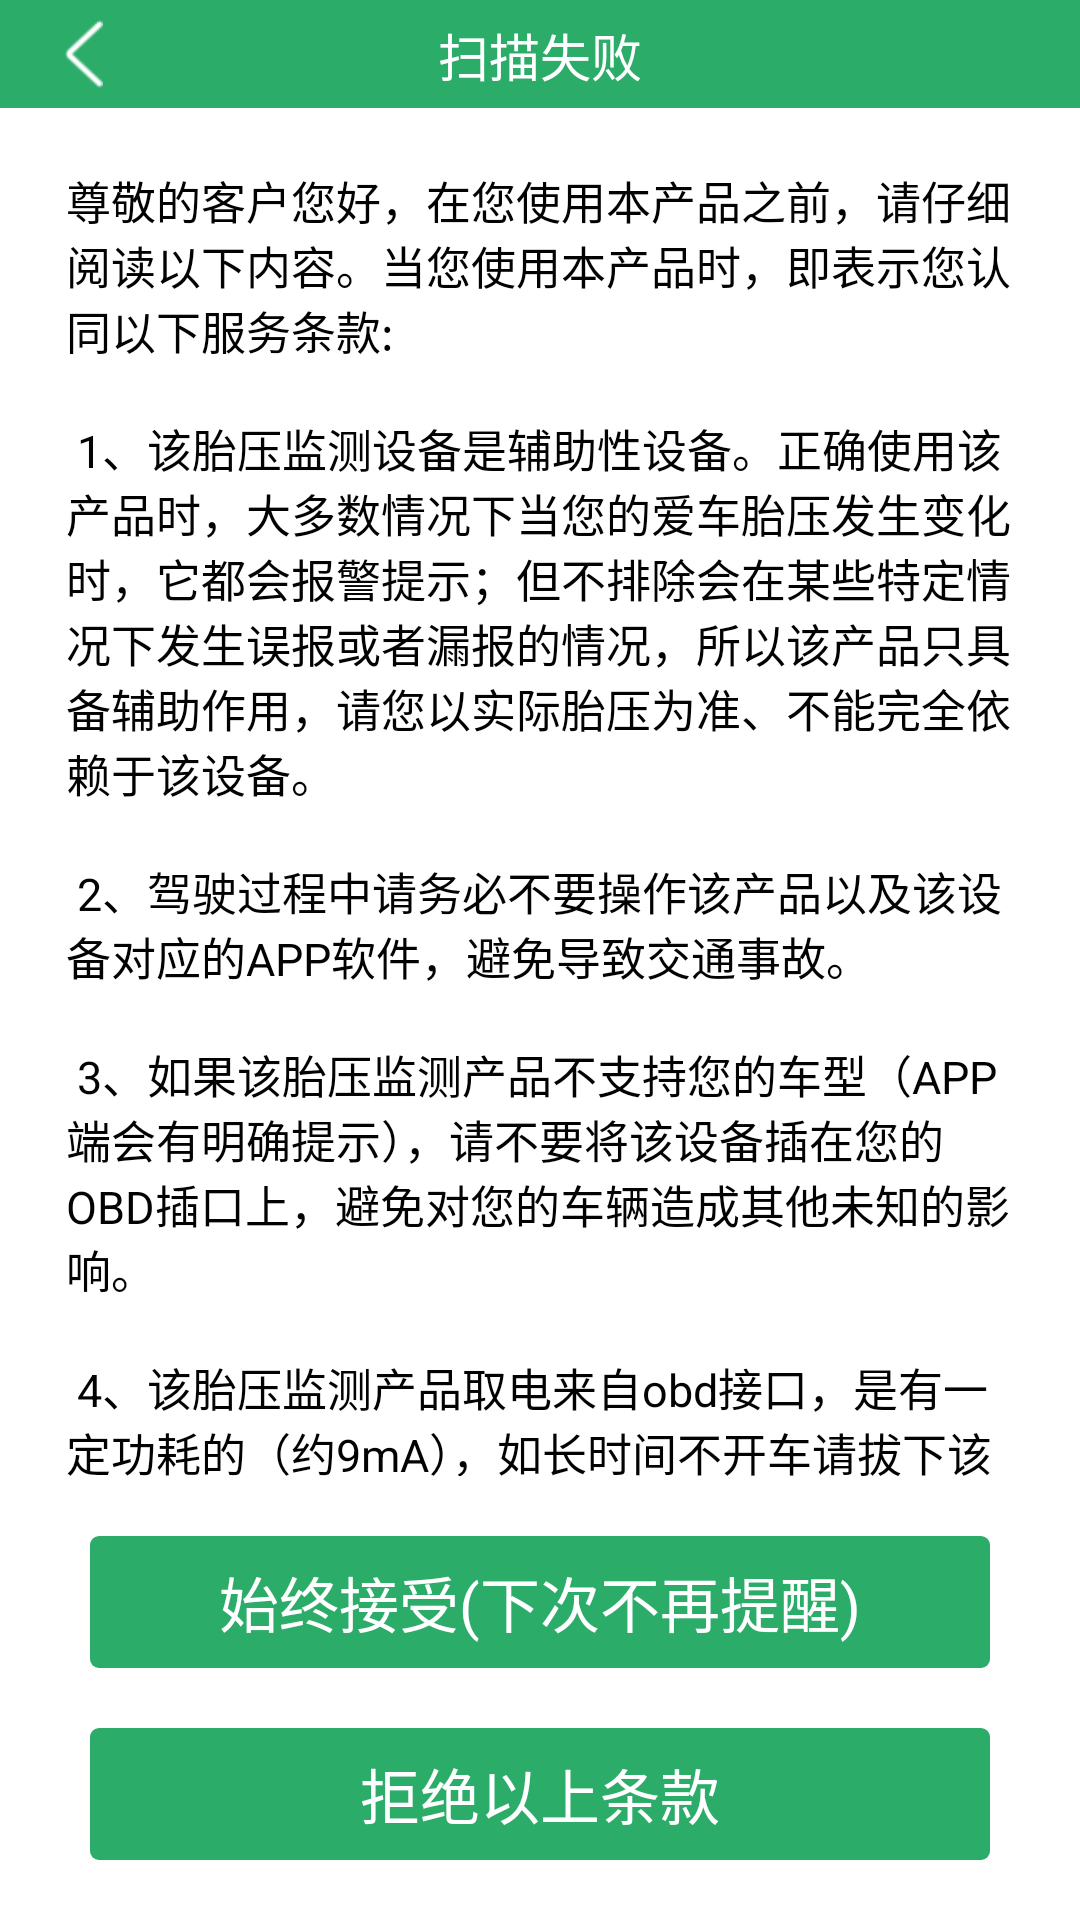

Where to tap for icons on this 1080px×1920px app screen, as point (x, y):
back: point (84, 54)
